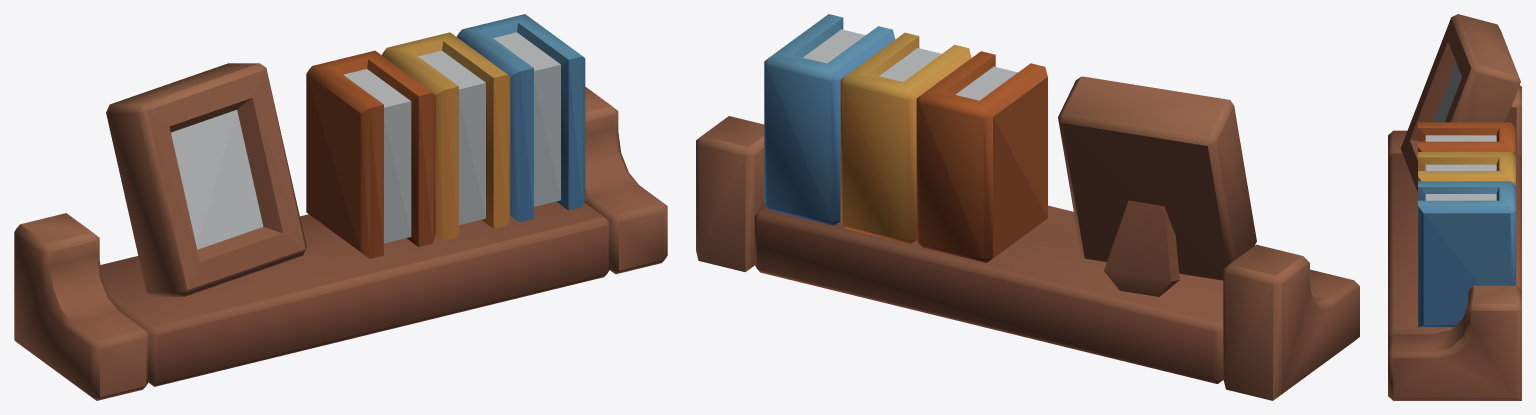
File: kk_furniture_shelf_B_large_decorated.glb
3 renders of one model, left to right at view 1: azimuth 30°, elevation 25°; view 2: azimuth 150°, elevation 25°; view 3: azimuth 270°, elevation 25°, orthographic. The views are drawn at different scales.
Parts seen in each view (by area): view 1: kk_furniture_shelf_B_large_decorated; view 2: kk_furniture_shelf_B_large_decorated; view 3: kk_furniture_shelf_B_large_decorated.
Part boxes in pixels (x1,y1,x2,y2): kk_furniture_shelf_B_large_decorated: [14, 14, 667, 400]; kk_furniture_shelf_B_large_decorated: [696, 14, 1359, 400]; kk_furniture_shelf_B_large_decorated: [1388, 14, 1521, 400].
Bounding box in the file's own units: 2 × 0.8175 × 0.5.
